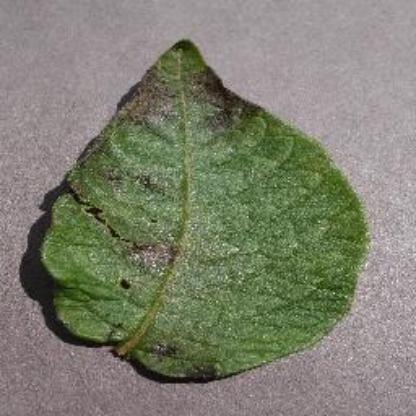Late-Blight: (21, 22, 394, 398)
